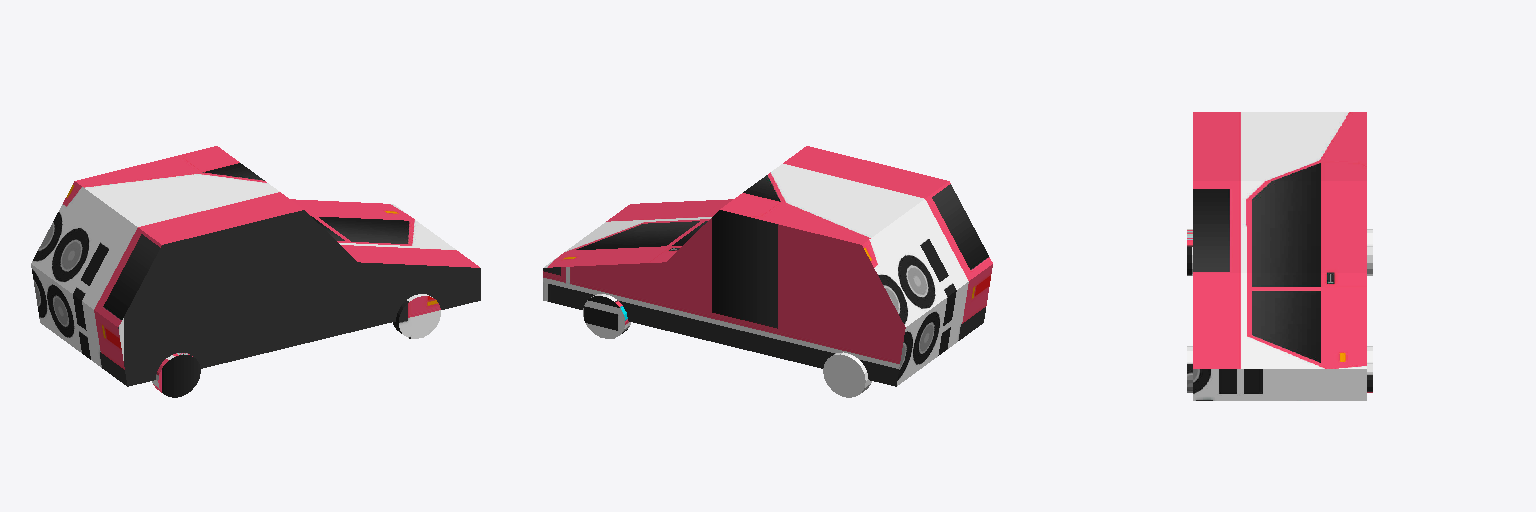
The picture shows the model from 3 angles: view 1: azimuth 30°, elevation 25°; view 2: azimuth 150°, elevation 25°; view 3: azimuth 270°, elevation 25°; orthographic projection.
Parts seen in each view (by area): view 1: Car_1; view 2: Car_1; view 3: Car_1.
Boxes of the visible parts, x1=… form: Car_1: x1=31, y1=146, x2=480, y2=397; Car_1: x1=543, y1=146, x2=992, y2=397; Car_1: x1=1187, y1=112, x2=1372, y2=400.
Size of the model in its own units: 11.78 by 4.78 by 5.22.
Materials: 1 (1 with a texture image).